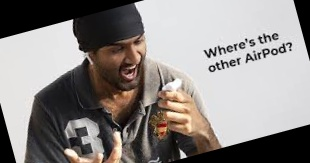earphone: (84, 49, 97, 67)
